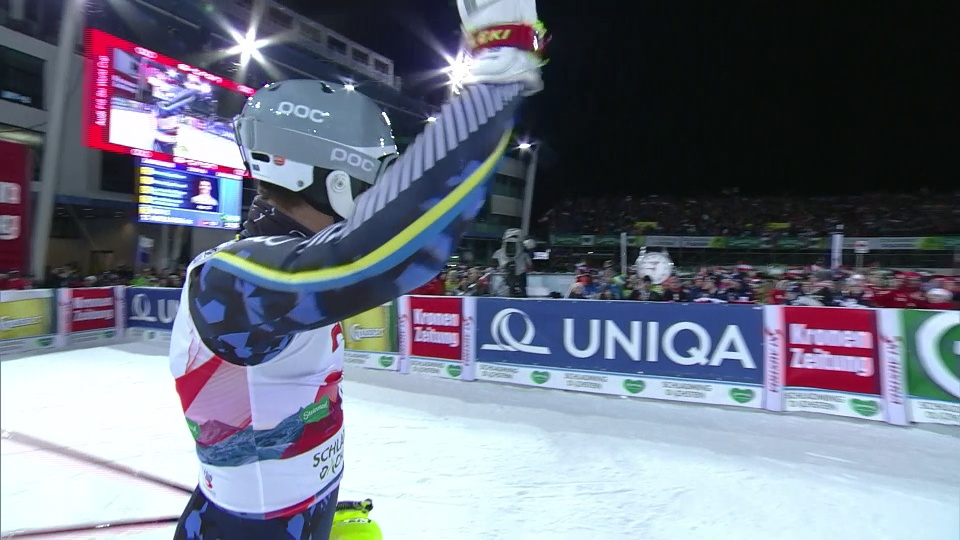goesser: (903, 313, 959, 408), (1, 304, 49, 338), (346, 319, 391, 345)
kronenzeitung: (786, 320, 888, 387), (413, 307, 462, 353), (70, 291, 115, 330)
steiermark: (726, 387, 761, 409)
uniqa: (493, 303, 741, 380), (126, 291, 195, 328)
